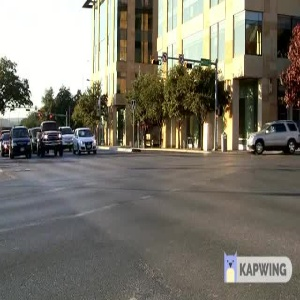car: (72, 122, 100, 157)
suv: (237, 113, 300, 158)
truck: (35, 119, 64, 159)
van: (7, 119, 36, 160)
